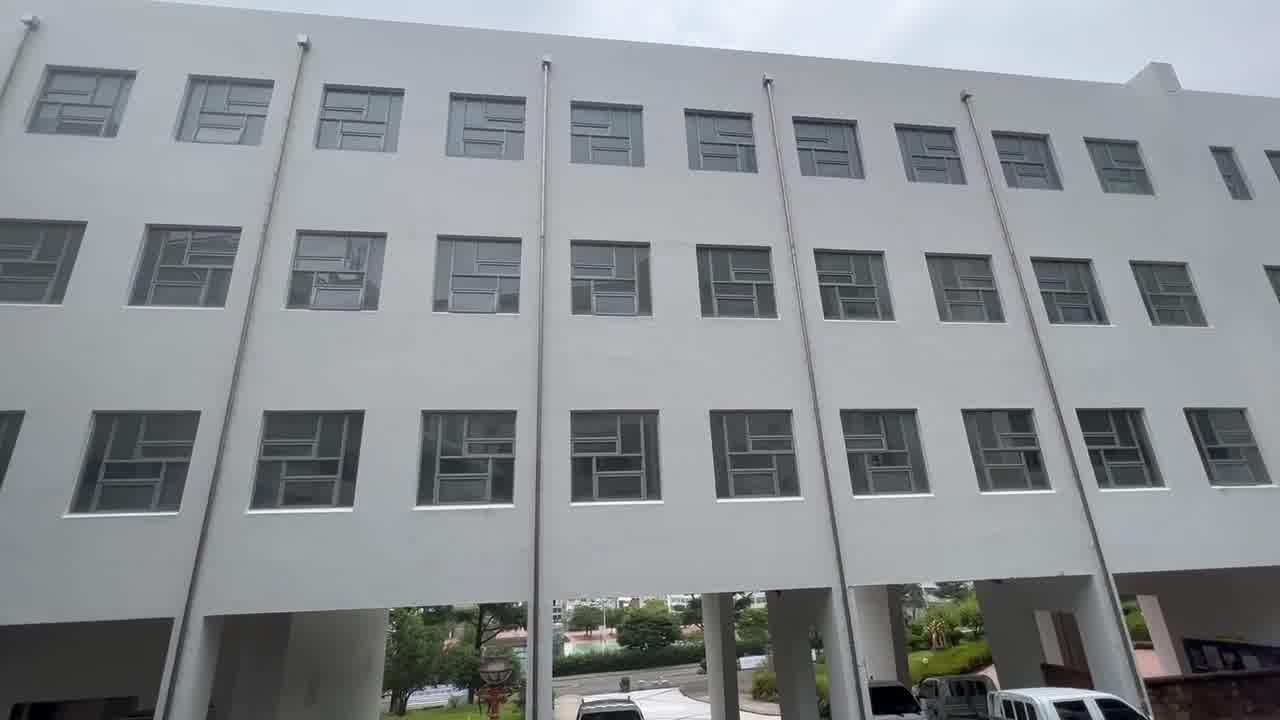building: (9, 18, 1249, 564)
